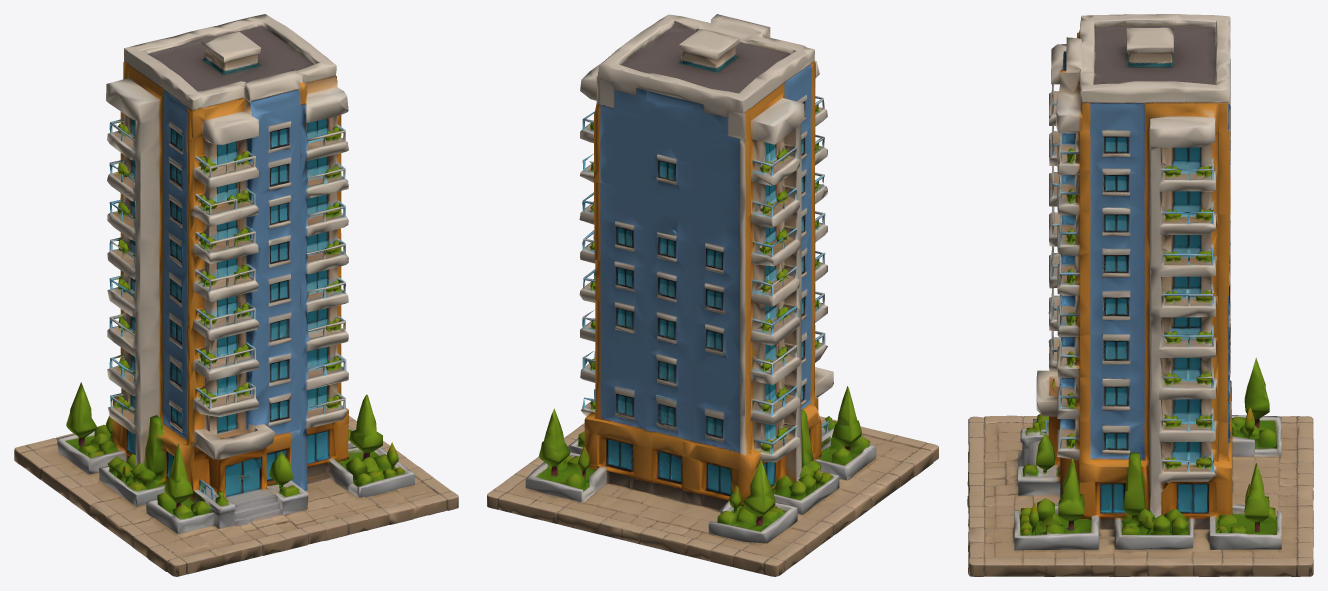
Rendered from residential_tower.glb.
The picture shows the model from 3 angles, left to right: view 1: azimuth 30°, elevation 25°; view 2: azimuth 150°, elevation 25°; view 3: azimuth 270°, elevation 25°; orthographic projection. The views are drawn at different scales.
Parts seen in each view (by area): view 1: tripo_node_ffb87125-b7d0-48b6-90c4-bedd0bc0a431; view 2: tripo_node_ffb87125-b7d0-48b6-90c4-bedd0bc0a431; view 3: tripo_node_ffb87125-b7d0-48b6-90c4-bedd0bc0a431.
Part boxes in pixels (left/top/right/bottom): tripo_node_ffb87125-b7d0-48b6-90c4-bedd0bc0a431: left=14, top=14, right=458, bottom=576; tripo_node_ffb87125-b7d0-48b6-90c4-bedd0bc0a431: left=487, top=14, right=938, bottom=576; tripo_node_ffb87125-b7d0-48b6-90c4-bedd0bc0a431: left=967, top=14, right=1313, bottom=576.
Bounding box in the file's own units: 0.6879 × 1 × 0.6743.
1 material, 1 textured.
